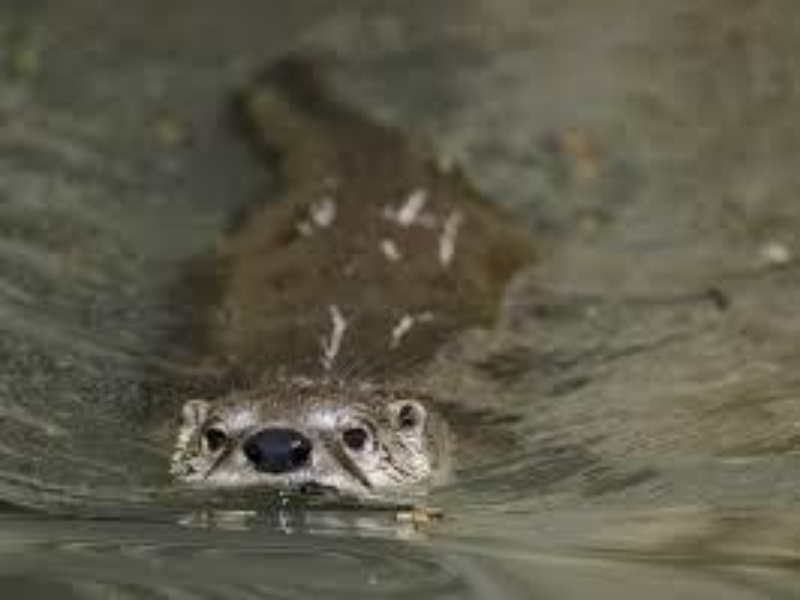minkish: (159, 40, 531, 501)
